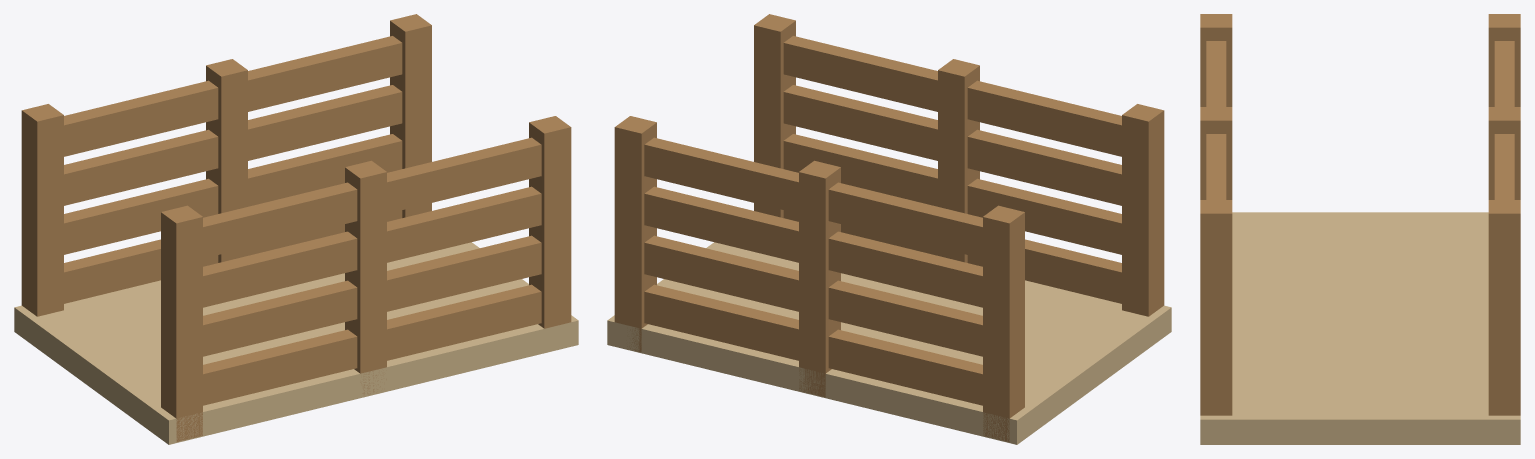
The model's file is CompostBin.glb.
The picture shows the model from 3 angles, left to right: view 1: azimuth 30°, elevation 25°; view 2: azimuth 150°, elevation 25°; view 3: azimuth 270°, elevation 25°; orthographic projection. The views are drawn at different scales.
Parts seen in each view (by area): view 1: hand-pump-static-compost-bin-timber, hand-pump-static-compost-bin-stone; view 2: hand-pump-static-compost-bin-timber, hand-pump-static-compost-bin-stone; view 3: hand-pump-static-compost-bin-stone, hand-pump-static-compost-bin-timber.
Boxes of the visible parts, x1=… form: hand-pump-static-compost-bin-timber: x1=21, y1=14, x2=571, y2=441; hand-pump-static-compost-bin-stone: x1=14, y1=242, x2=578, y2=444; hand-pump-static-compost-bin-timber: x1=614, y1=14, x2=1164, y2=441; hand-pump-static-compost-bin-stone: x1=607, y1=242, x2=1171, y2=444; hand-pump-static-compost-bin-stone: x1=1200, y1=212, x2=1520, y2=444; hand-pump-static-compost-bin-timber: x1=1200, y1=14, x2=1520, y2=415.
Size of the model in its own units: 2.45 by 1.25 by 1.6.
